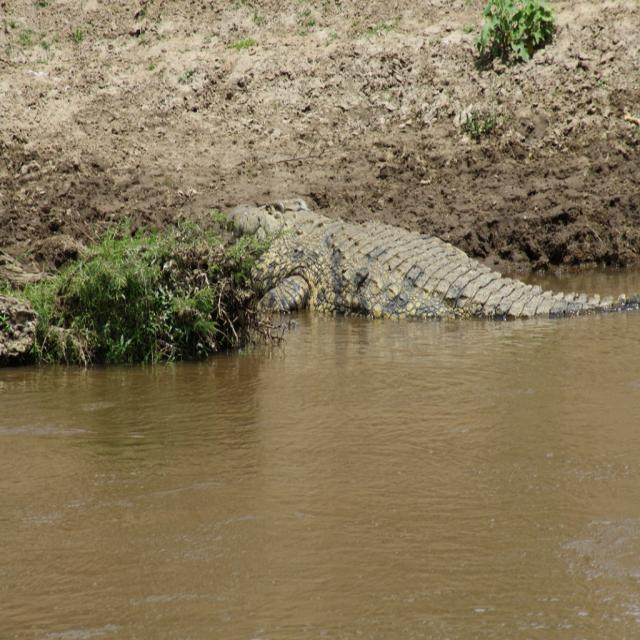crocodile: (241, 195, 629, 317)
